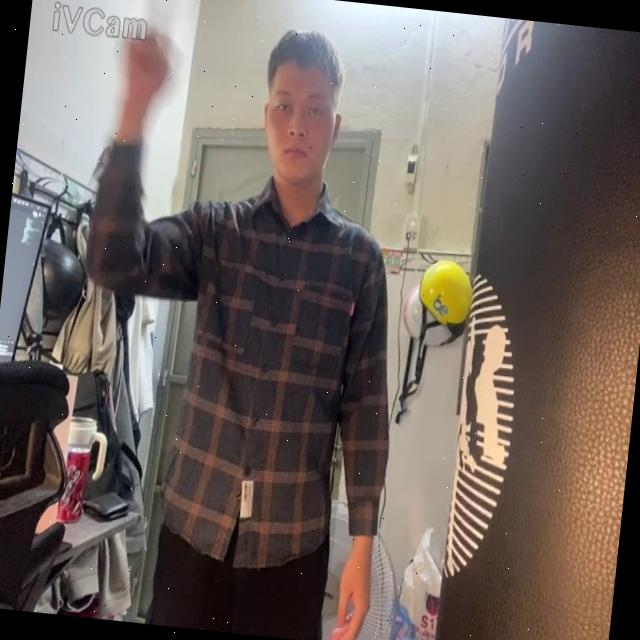u: (89, 140, 388, 568)
